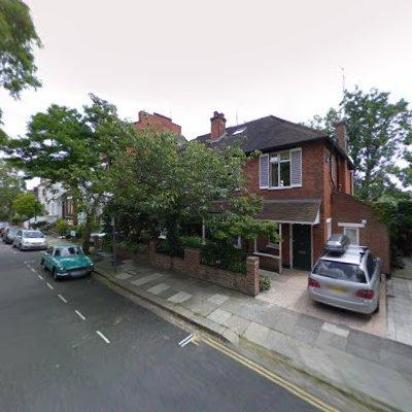stationary-car-offstreet: (306, 232, 382, 318)
stationary-car-onstreet: (39, 242, 95, 284), (13, 228, 48, 252), (4, 225, 24, 243)
